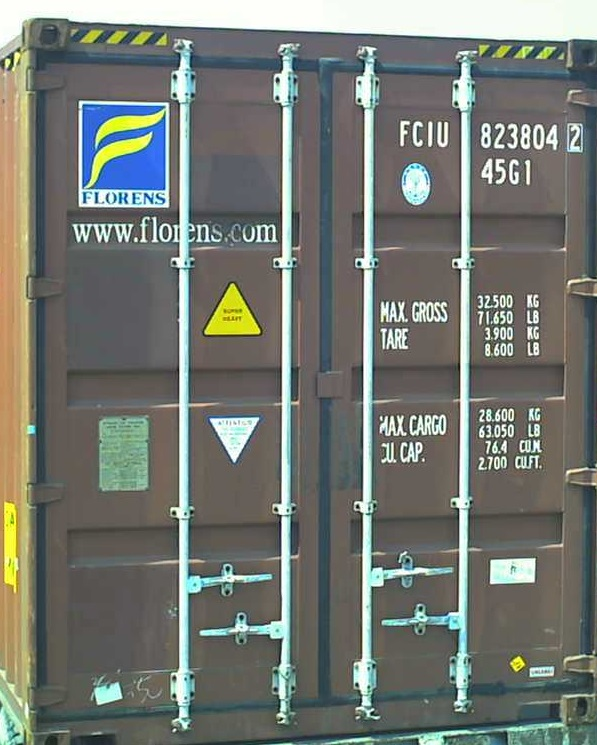container_door: (31, 19, 597, 742)
